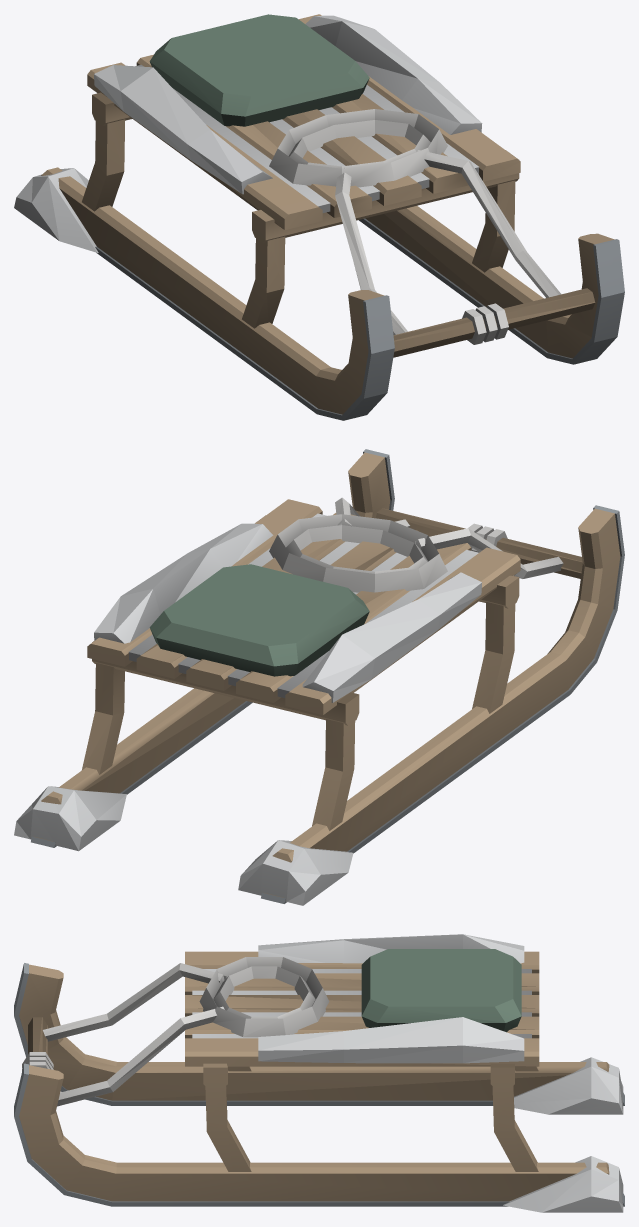
Rendered from toboggan.glb.
3 views of the same model, one above another, from view 1: azimuth 30°, elevation 25°; view 2: azimuth 150°, elevation 25°; view 3: azimuth 270°, elevation 25° (orthographic). The views are drawn at different scales.
Visible parts, largest first — view 1: toboggan.001; view 2: toboggan.001; view 3: toboggan.001.
Part boxes in pixels (x1,y1,x2,y2): toboggan.001: [14, 14, 624, 420]; toboggan.001: [14, 449, 624, 905]; toboggan.001: [14, 934, 624, 1212].
Size of the model in its own units: 0.49 by 0.3168 by 1.
